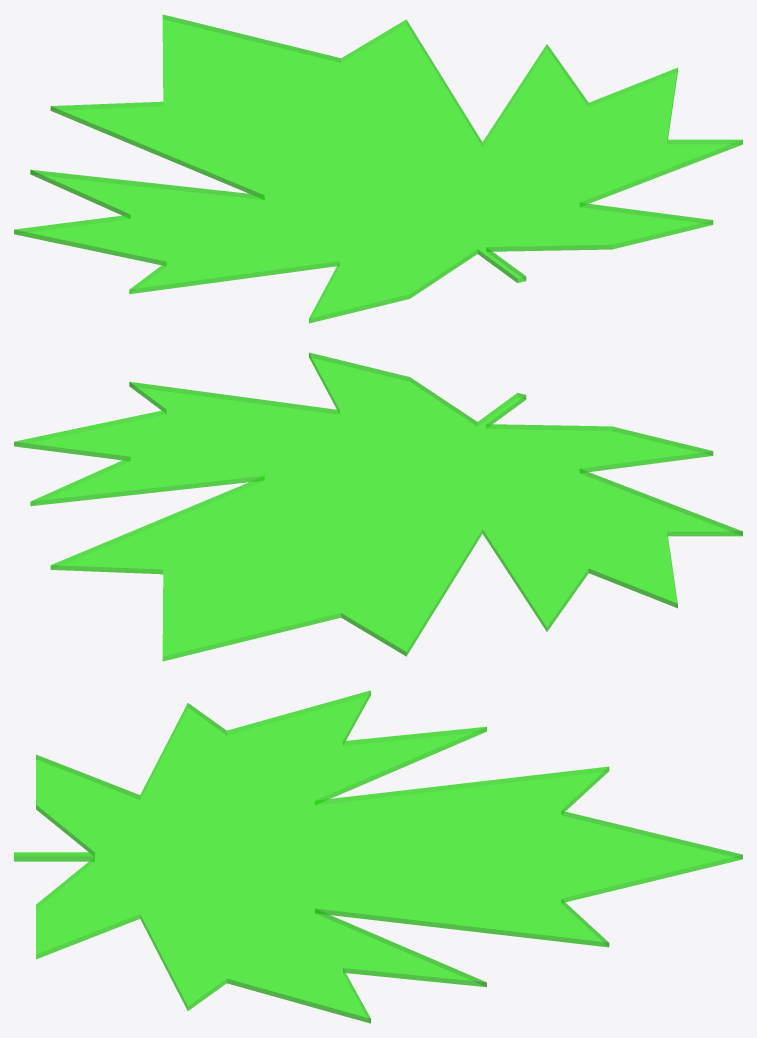
Rendered from maplesGB.fbx.fbx.
The picture shows the model from 3 angles, top to bottom: view 1: azimuth 30°, elevation 25°; view 2: azimuth 150°, elevation 25°; view 3: azimuth 270°, elevation 25°; orthographic projection.
Visible parts, largest first — view 1: Group1; view 2: Group1; view 3: Group1.
Boxes of the visible parts, box(x1,y1,x2,y2) form: Group1: box(14, 14, 742, 323); Group1: box(14, 352, 742, 661); Group1: box(14, 690, 742, 1023).
Bounding box in the file's own units: 2336 × 16 × 2190.
